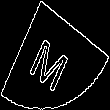M_NE: (31, 21, 79, 89)
